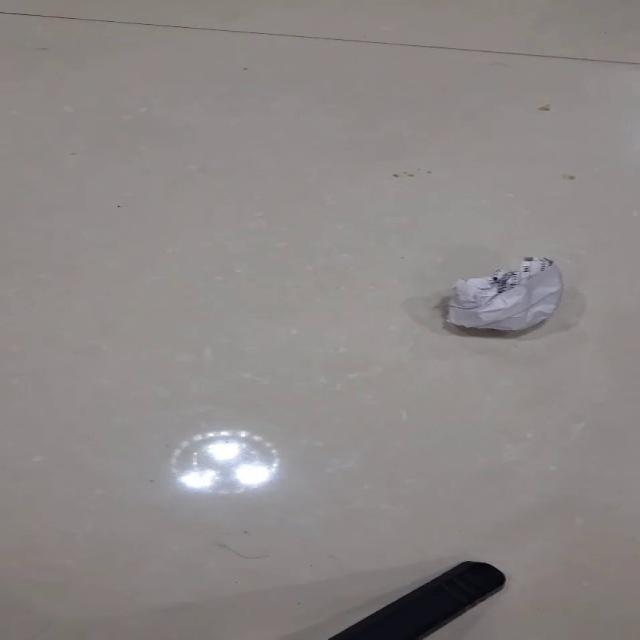paper: (443, 256, 562, 332)
